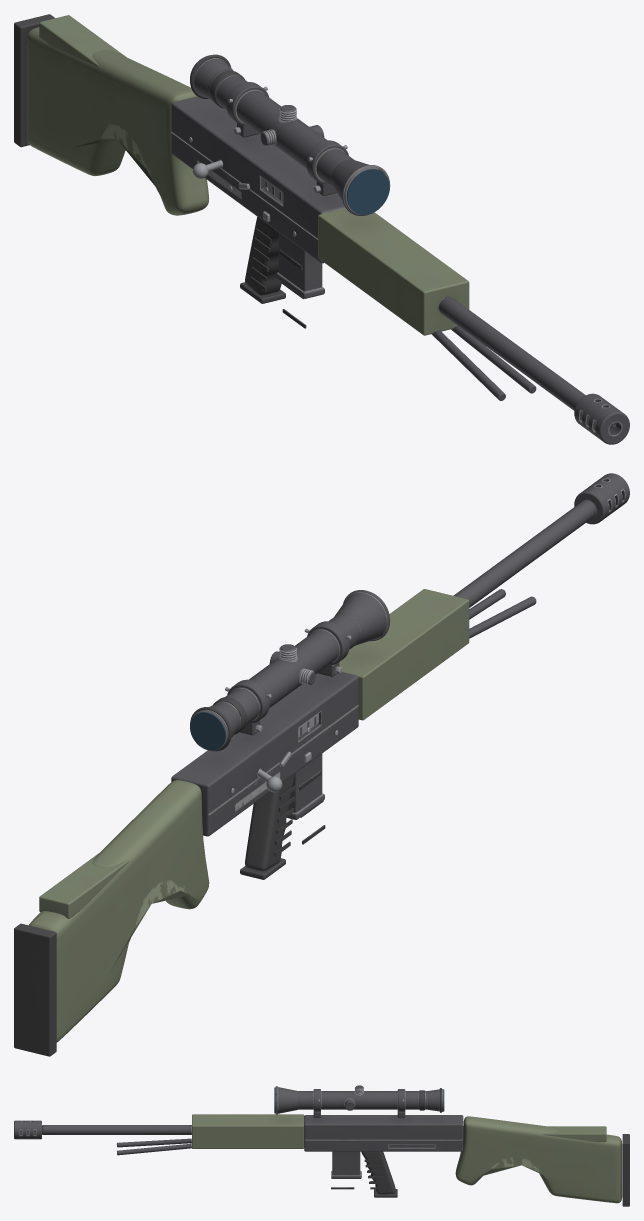
The model's file is awp.fbx.
The picture shows the model from 3 angles, top to bottom: view 1: azimuth 30°, elevation 25°; view 2: azimuth 150°, elevation 25°; view 3: azimuth 270°, elevation 25°; orthographic projection. The views are drawn at different scales.
Visible parts, largest first — view 1: awp; view 2: awp; view 3: awp.
Boxes of the visible parts, left/top/right/bottom form: awp: left=14, top=14, right=629, bottom=444; awp: left=14, top=473, right=629, bottom=1056; awp: left=14, top=1085, right=629, bottom=1206.
Size of the model in its own units: 0.088 by 0.2717 by 1.32.
